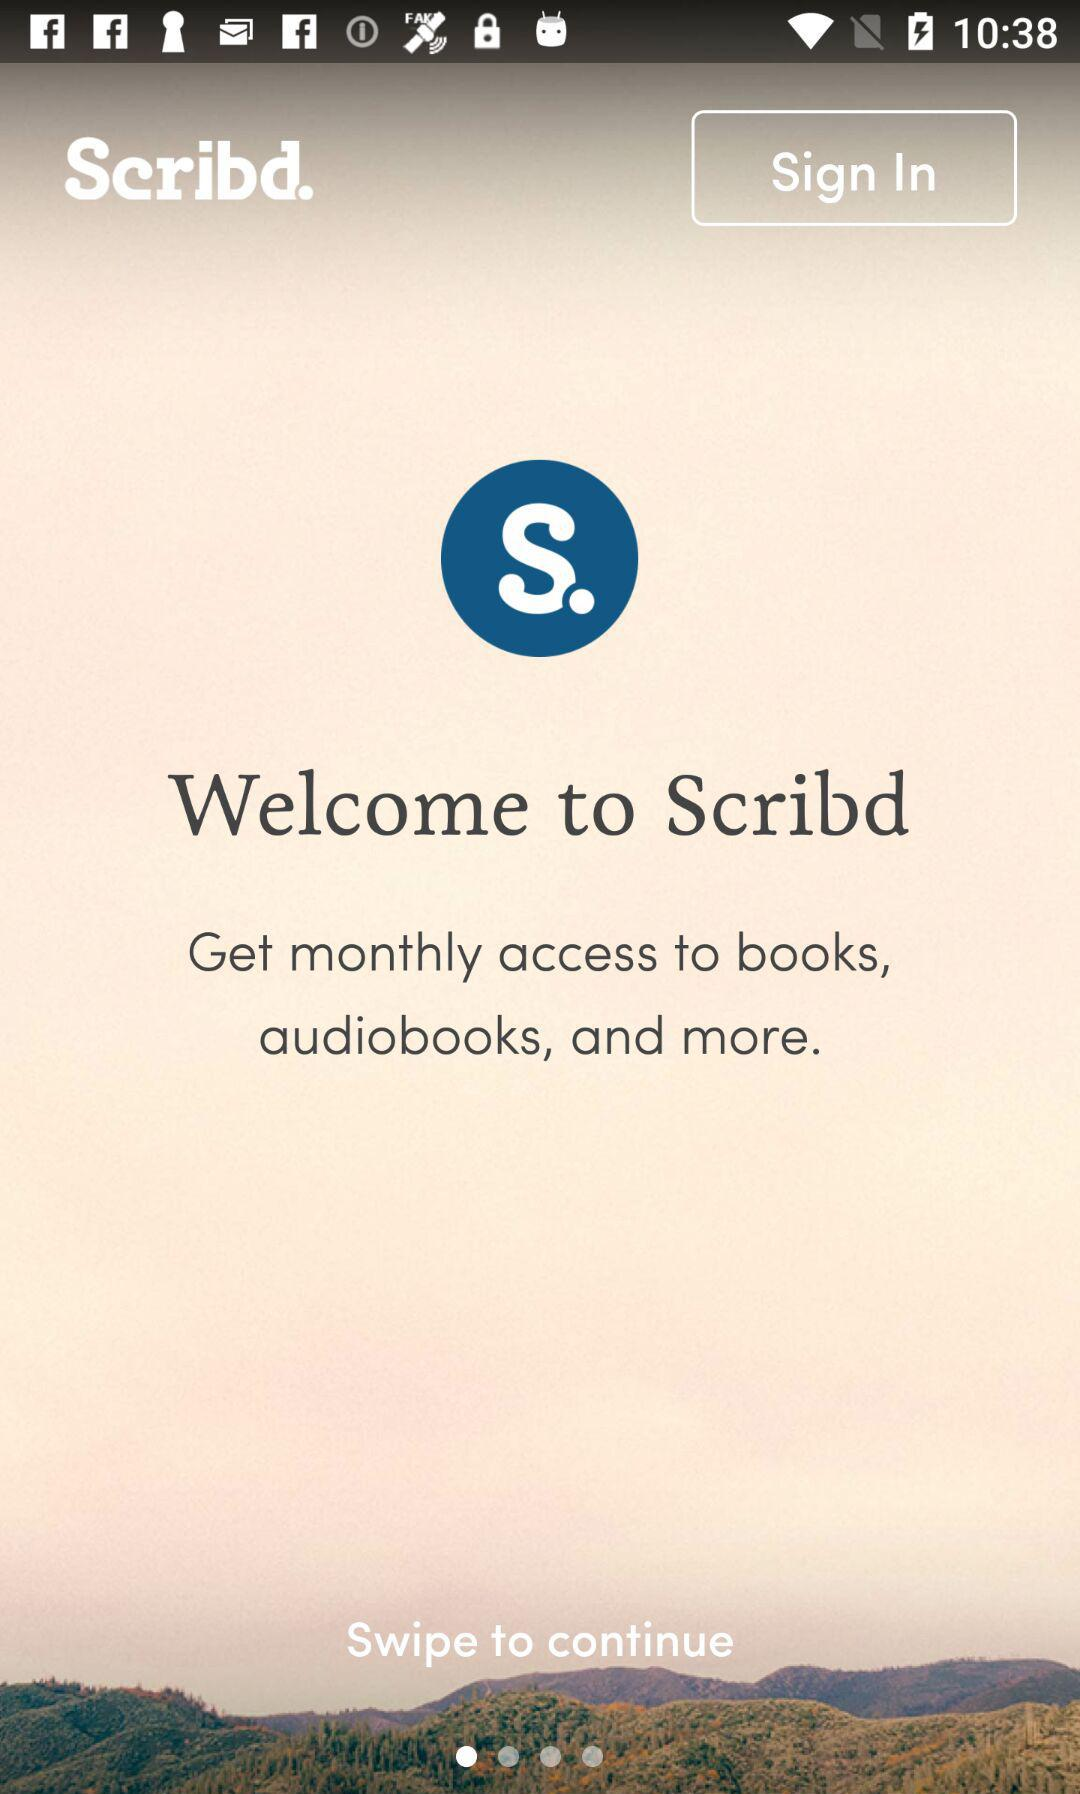BackgroundImage: (1, 64, 1080, 1794)
Image: (441, 460, 641, 659), (64, 137, 315, 202)
PageIndicator: (455, 1744, 605, 1768)
Text: (190, 930, 890, 1062), (167, 768, 910, 838), (347, 1618, 735, 1668)
TextButton: (691, 110, 1019, 228)
UpperTaskBar: (1, 1, 1080, 64)
